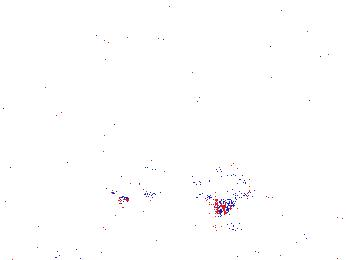flame jellyfish: (271, 174, 346, 229), (110, 155, 167, 207), (203, 162, 250, 216)
